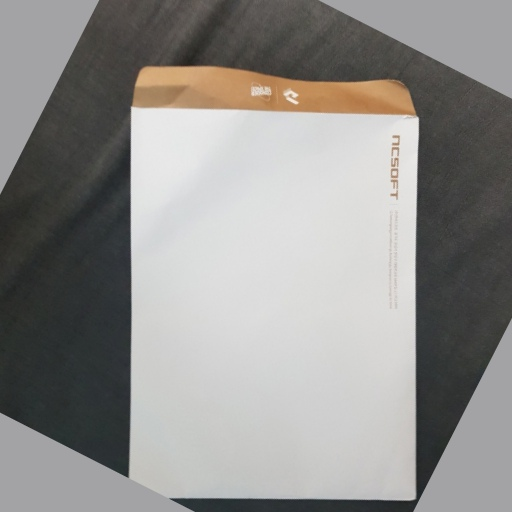Paper_2: (121, 54, 436, 510)
